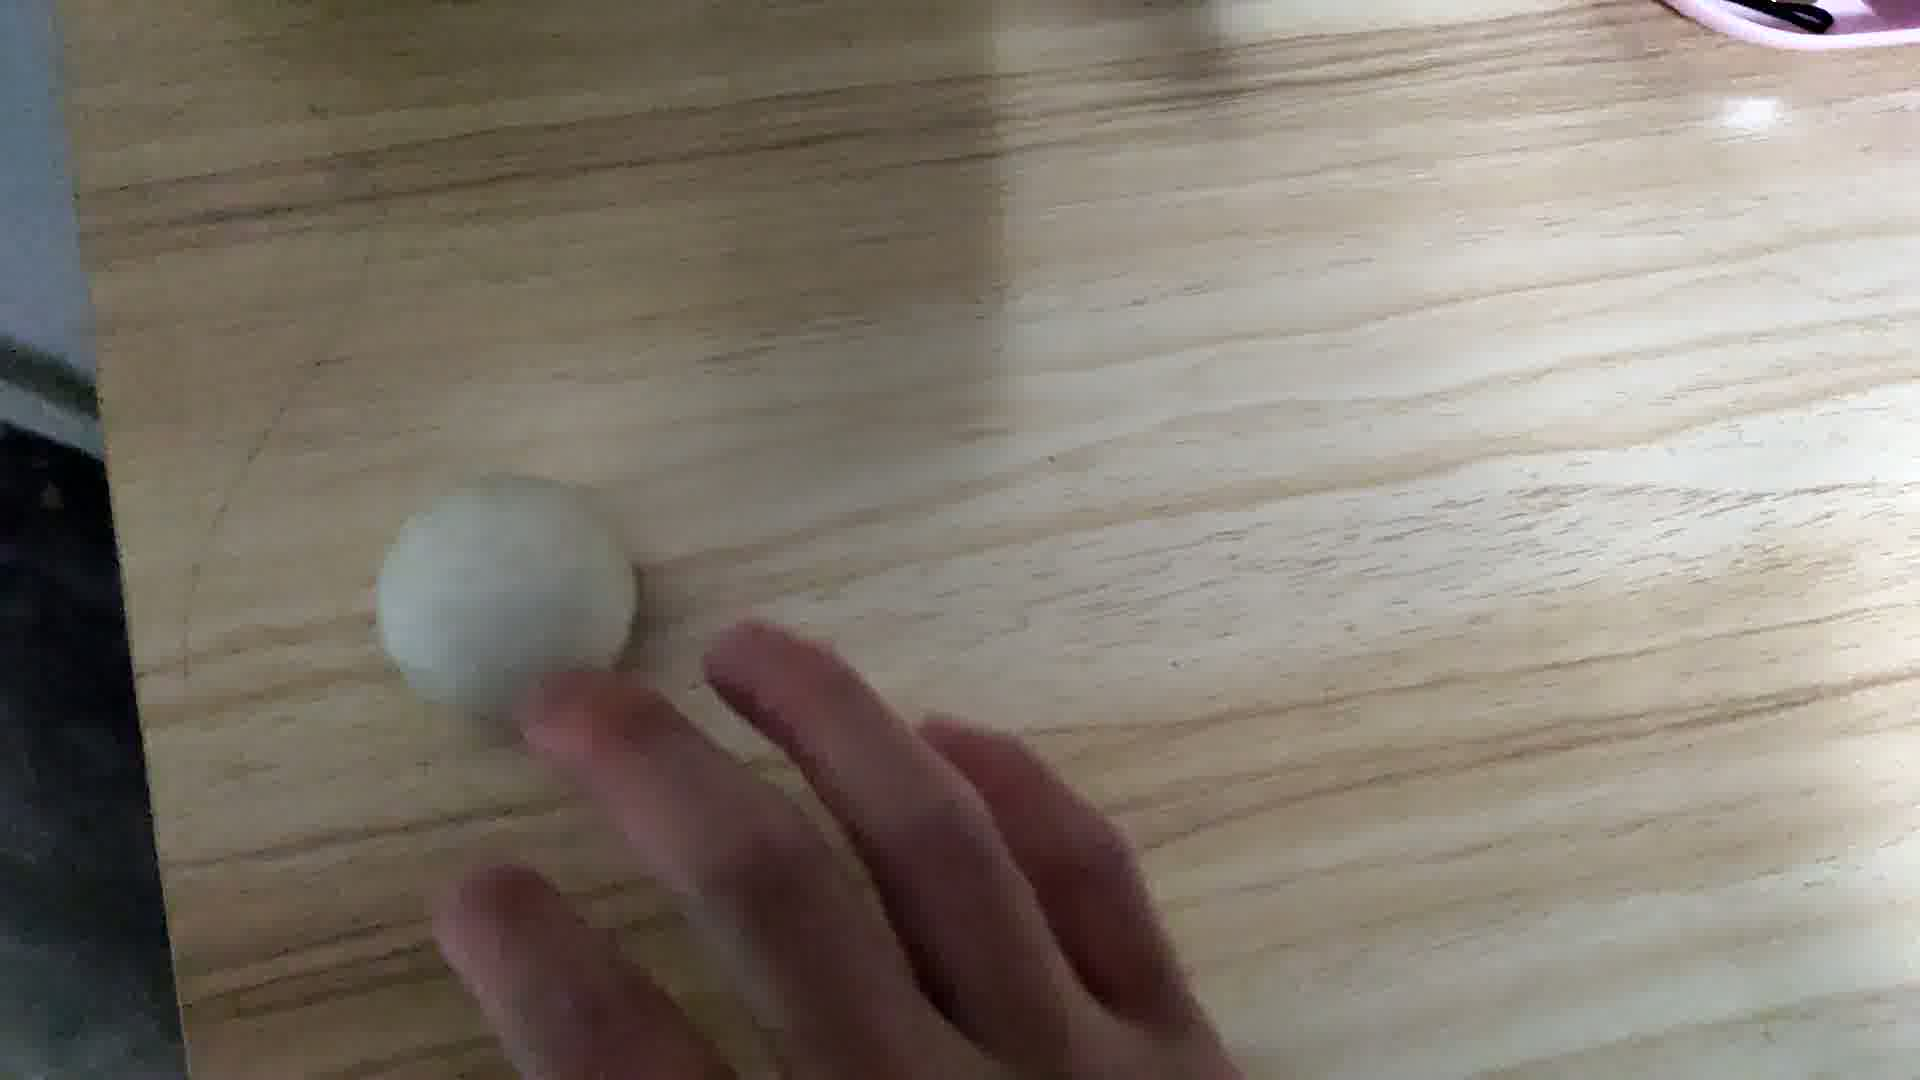Ball: (377, 479, 636, 721)
